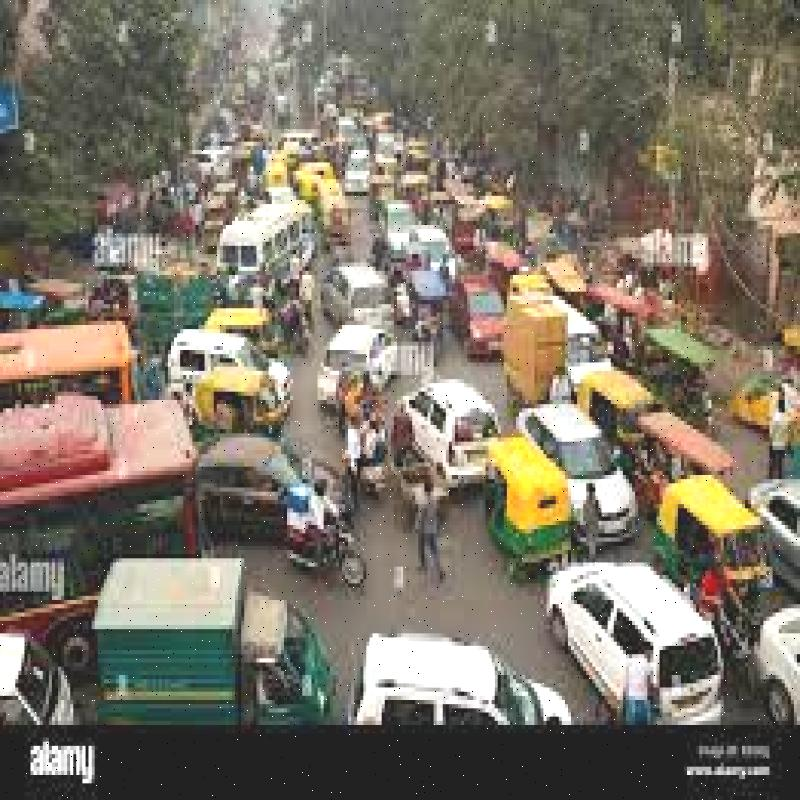car: (351, 622, 542, 757), (541, 561, 696, 714), (401, 377, 490, 501), (314, 316, 404, 420), (177, 330, 281, 418)
